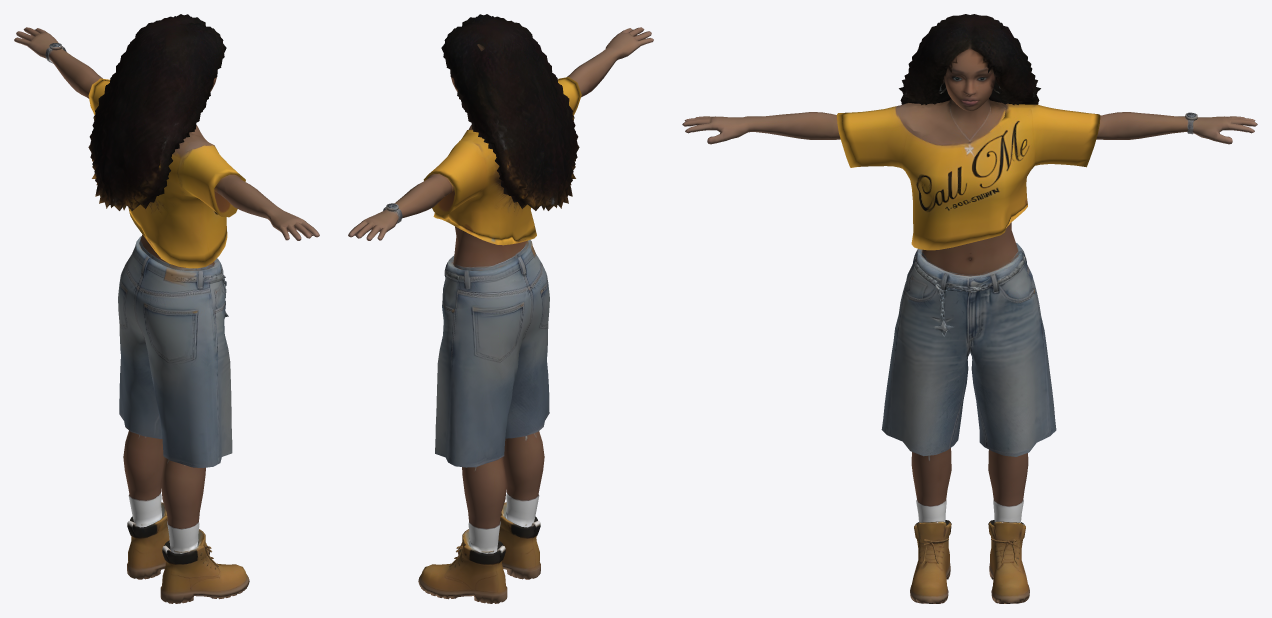
The model's file is fashionmodel3d.glb.
3 views of the same model, side by side, from view 1: azimuth 30°, elevation 25°; view 2: azimuth 150°, elevation 25°; view 3: azimuth 270°, elevation 25° (orthographic).
Parts seen in each view (by area): view 1: tripo_node_42f7c66f-66f8-4866-acac-0156558aea06; view 2: tripo_node_42f7c66f-66f8-4866-acac-0156558aea06; view 3: tripo_node_42f7c66f-66f8-4866-acac-0156558aea06.
Boxes of the visible parts, x1=… form: tripo_node_42f7c66f-66f8-4866-acac-0156558aea06: x1=14, y1=14, x2=319, y2=603; tripo_node_42f7c66f-66f8-4866-acac-0156558aea06: x1=348, y1=14, x2=653, y2=603; tripo_node_42f7c66f-66f8-4866-acac-0156558aea06: x1=682, y1=14, x2=1257, y2=603.
Size of the model in its own units: 0.2349 by 0.9995 by 0.9253.
Materials: 1 (1 with a texture image).
